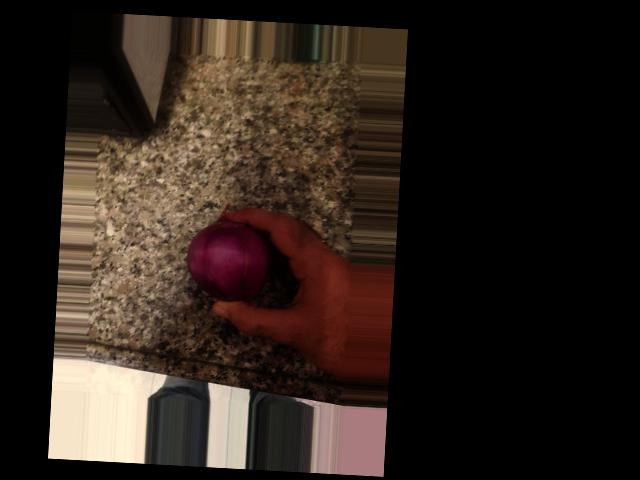onion: (188, 215, 269, 307)
